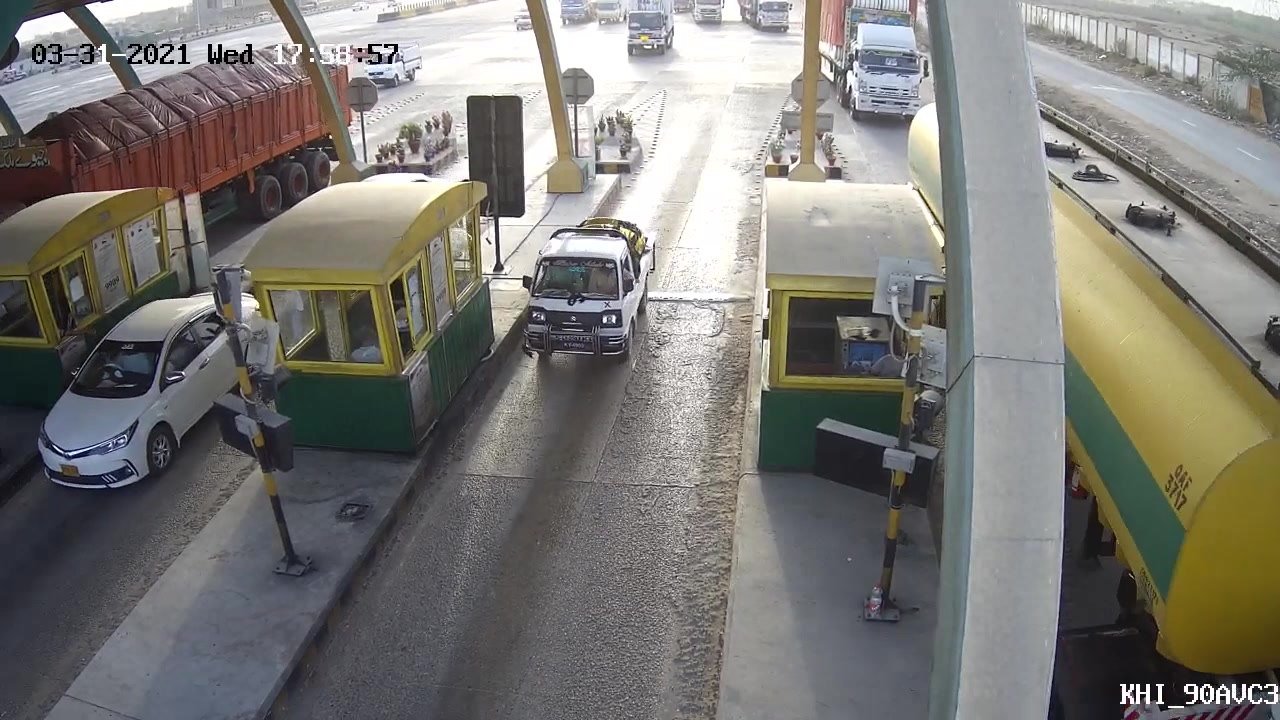F1: (507, 219, 662, 369)
